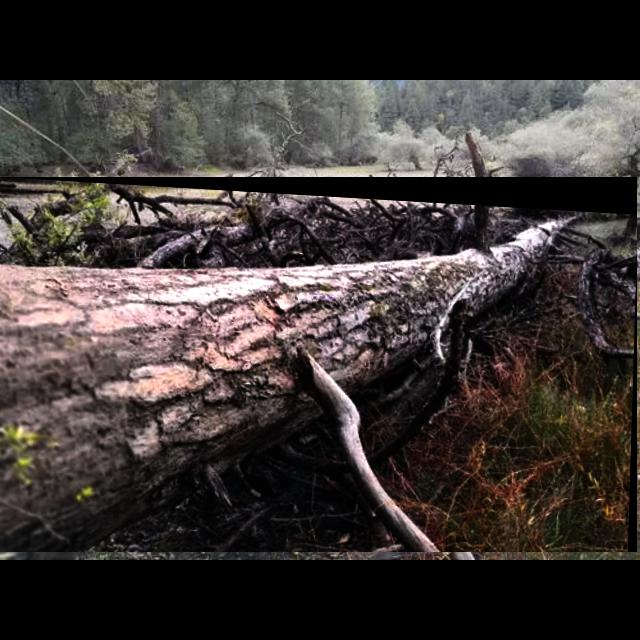Fallen Tree: (0, 177, 638, 553)
